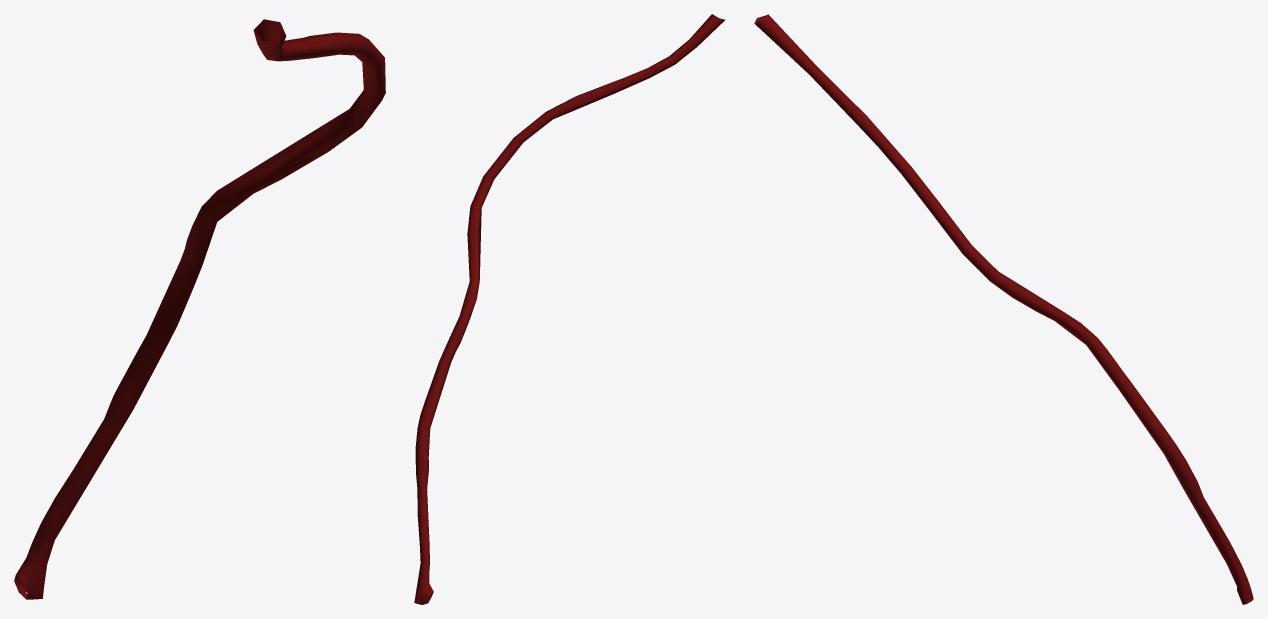
The model's file is R saphena.fbx.
3 renders of one model, left to right at view 1: azimuth 30°, elevation 25°; view 2: azimuth 150°, elevation 25°; view 3: azimuth 270°, elevation 25°, orthographic. The views are drawn at different scales.
Visible parts, largest first — view 1: R saphena low, R saphena; view 2: R saphena, R saphena low; view 3: R saphena, R saphena low.
Part boxes in pixels (x1,y1,x2,y2): R saphena low: (16, 23, 385, 599); R saphena: (14, 19, 385, 599); R saphena: (414, 14, 725, 604); R saphena low: (414, 16, 721, 604); R saphena: (754, 14, 1253, 604); R saphena low: (754, 14, 1251, 603).
Bounding box in the file's own units: 7.44 × 21.41 × 18.01.
